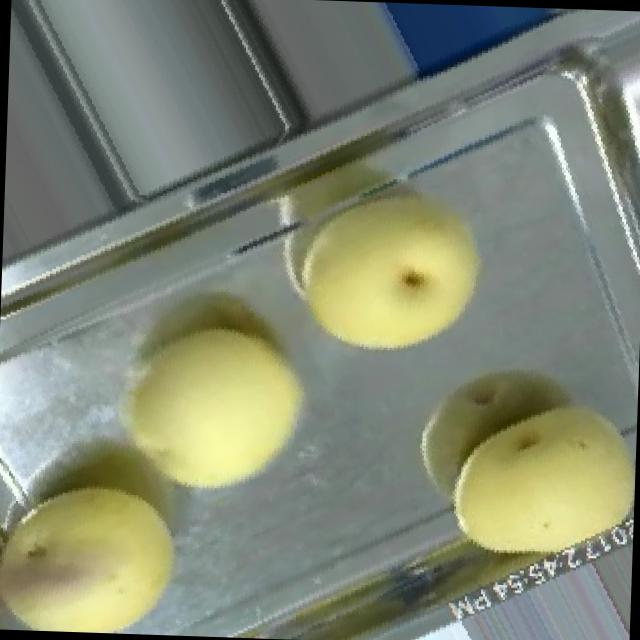Fruit: (85, 294, 331, 526), (262, 157, 514, 381), (431, 382, 638, 586), (0, 458, 203, 636)
